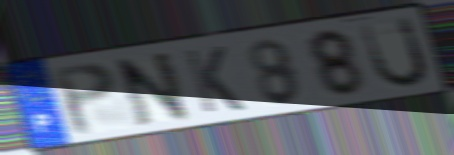8: (304, 27, 369, 98), (247, 36, 303, 107)
K: (180, 44, 248, 116)
N: (111, 48, 193, 129)
P: (49, 59, 119, 138)
U: (357, 14, 432, 91)
